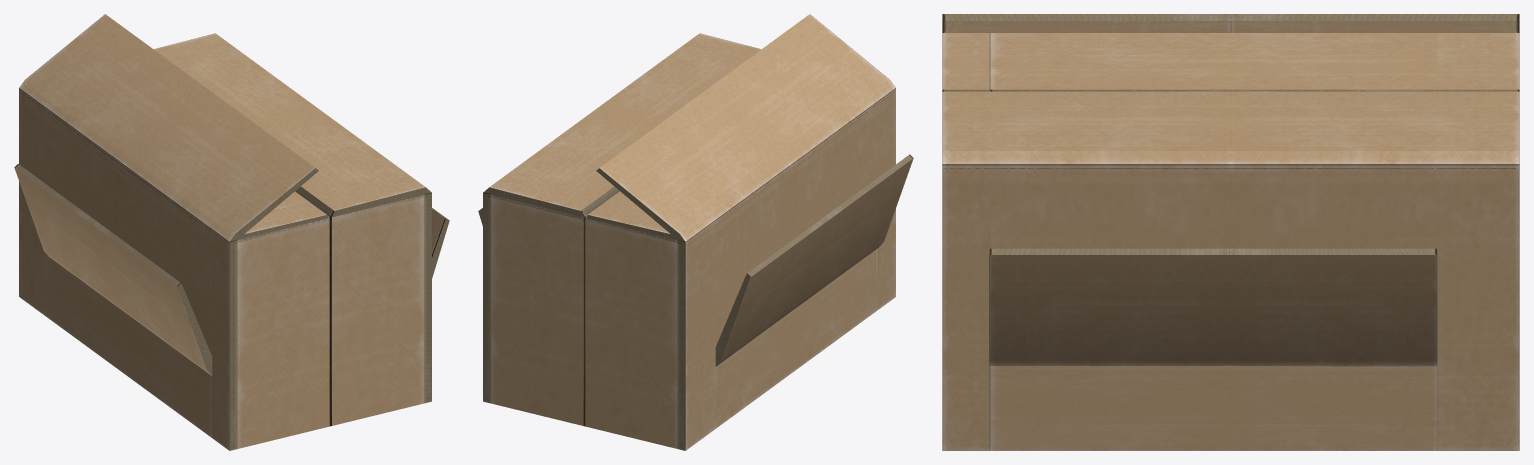
File: cardboardbox.fbx
3 views of the same model, side by side, from view 1: azimuth 30°, elevation 25°; view 2: azimuth 150°, elevation 25°; view 3: azimuth 270°, elevation 25° (orthographic). The views are drawn at different scales.
Parts seen in each view (by area): view 1: long_open, long_closed, flat_open, short_closed, flat_closed; view 2: long_open, long_closed, flat_open, flat_closed; view 3: long_open, flat_open, long_closed, short_closed, flat_closed.
Boxes of the visible parts, x1,y1,x2,y2 form: long_open: (19,14,431,450); long_closed: (19,91,431,450); flat_open: (14,164,449,434); short_closed: (75,136,311,437); flat_closed: (60,267,212,437); long_open: (483,14,895,450); long_closed: (483,91,895,450); flat_open: (478,154,913,395); flat_closed: (741,248,878,367); long_open: (942,14,1519,450); flat_open: (989,248,1437,450); long_closed: (942,33,1519,450); short_closed: (989,33,1437,450); flat_closed: (989,366,1436,450).
Bounding box in the file's own units: 82.35 × 75.71 × 110.
